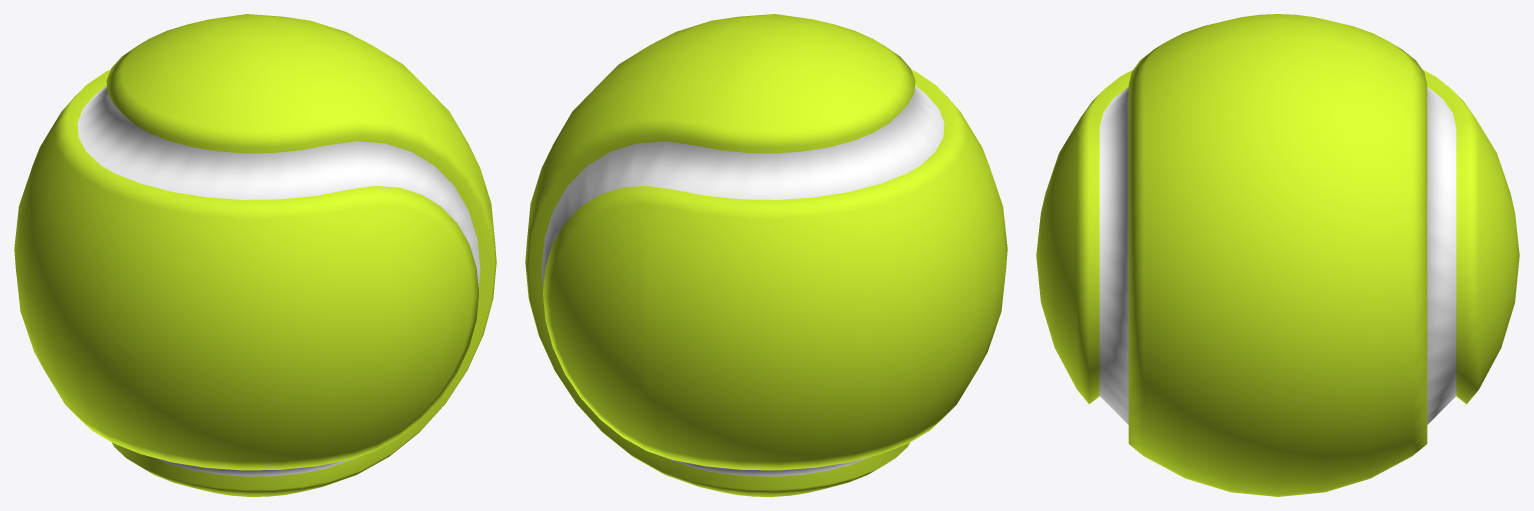
The model's file is ball.obj.
The picture shows the model from 3 angles, left to right: view 1: azimuth 30°, elevation 25°; view 2: azimuth 150°, elevation 25°; view 3: azimuth 270°, elevation 25°; orthographic projection.
Parts seen in each view (by area): view 1: Sphere.001; view 2: Sphere.001; view 3: Sphere.001.
Part boxes in pixels (x1,y1,x2,y2): Sphere.001: (14,14,496,496); Sphere.001: (525,14,1007,496); Sphere.001: (1036,14,1519,496).
Size of the model in its own units: 2 by 2 by 2.
2 materials, 2 textured.
